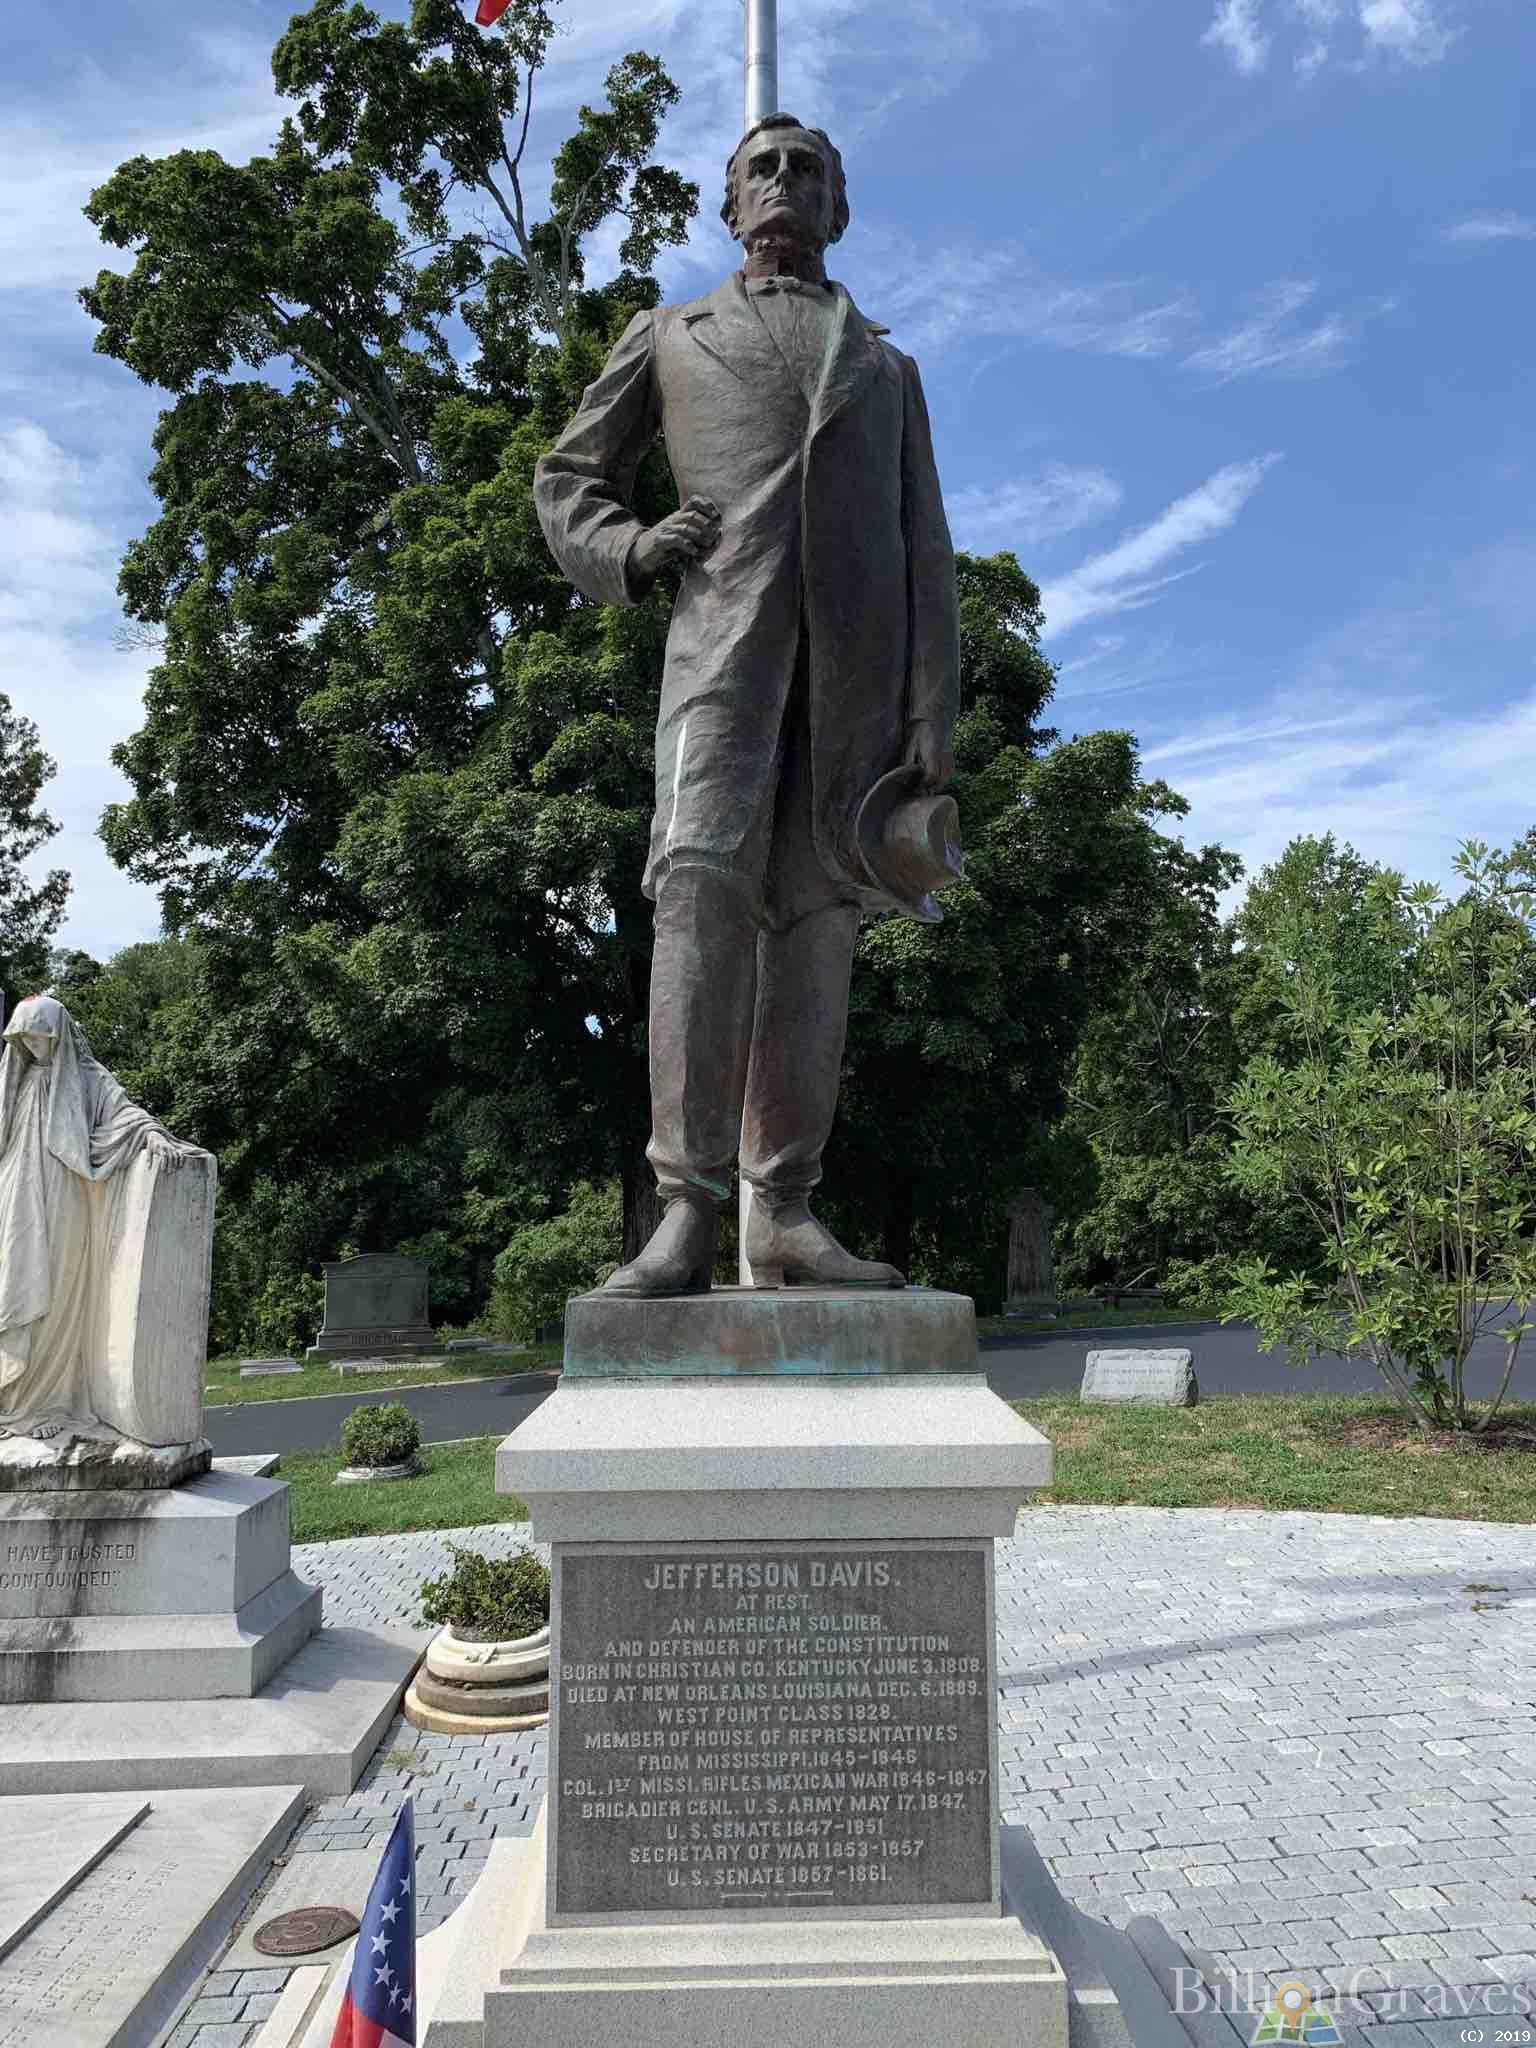statue: (549, 106, 1042, 1983)
